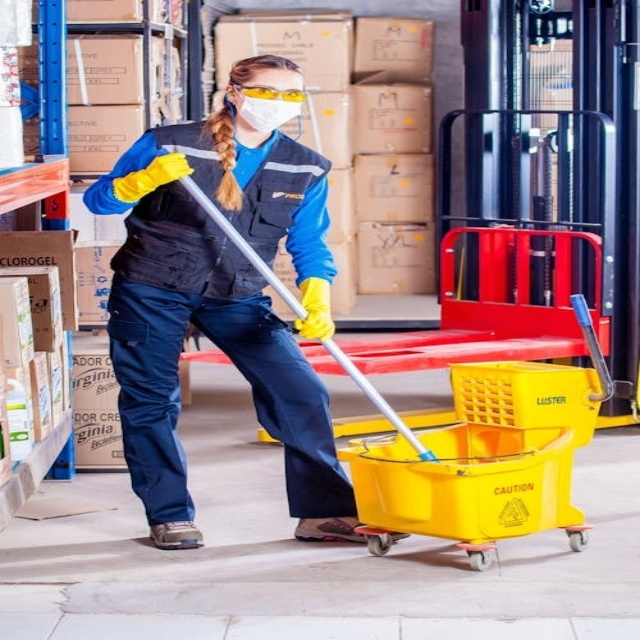Gafas: (232, 85, 307, 102)
Guantes: (112, 151, 195, 203), (292, 277, 334, 341)
Mascara: (233, 89, 303, 132)
